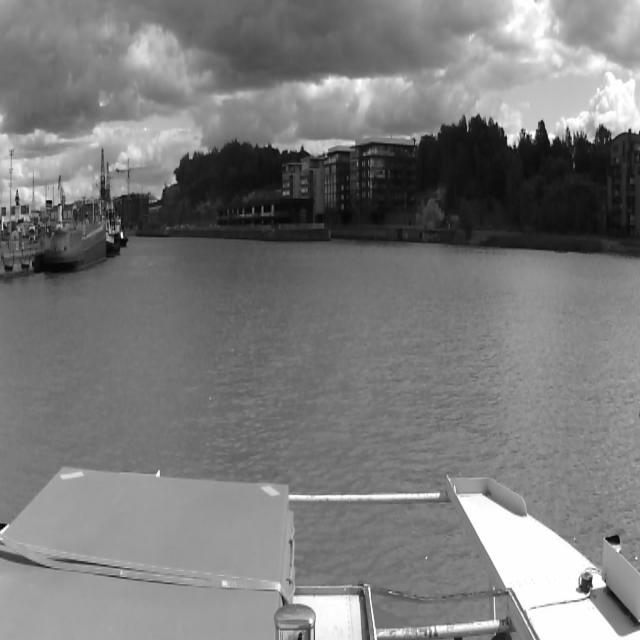ship: (50, 208, 114, 292), (46, 223, 110, 269)
